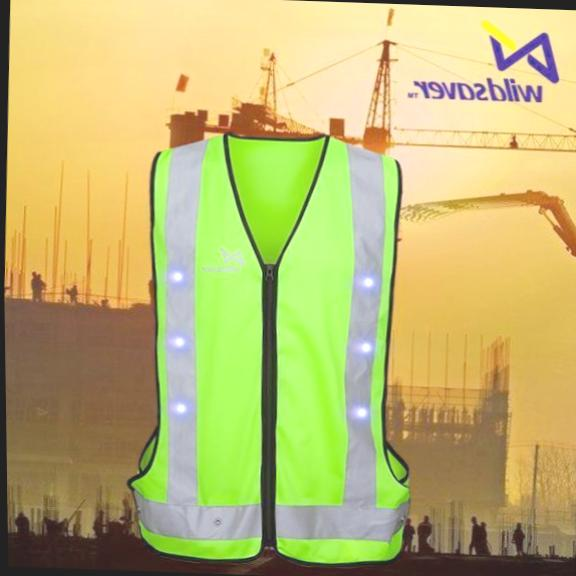safety_vest: (121, 123, 421, 566)
